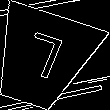L_S: (15, 30, 68, 88)
